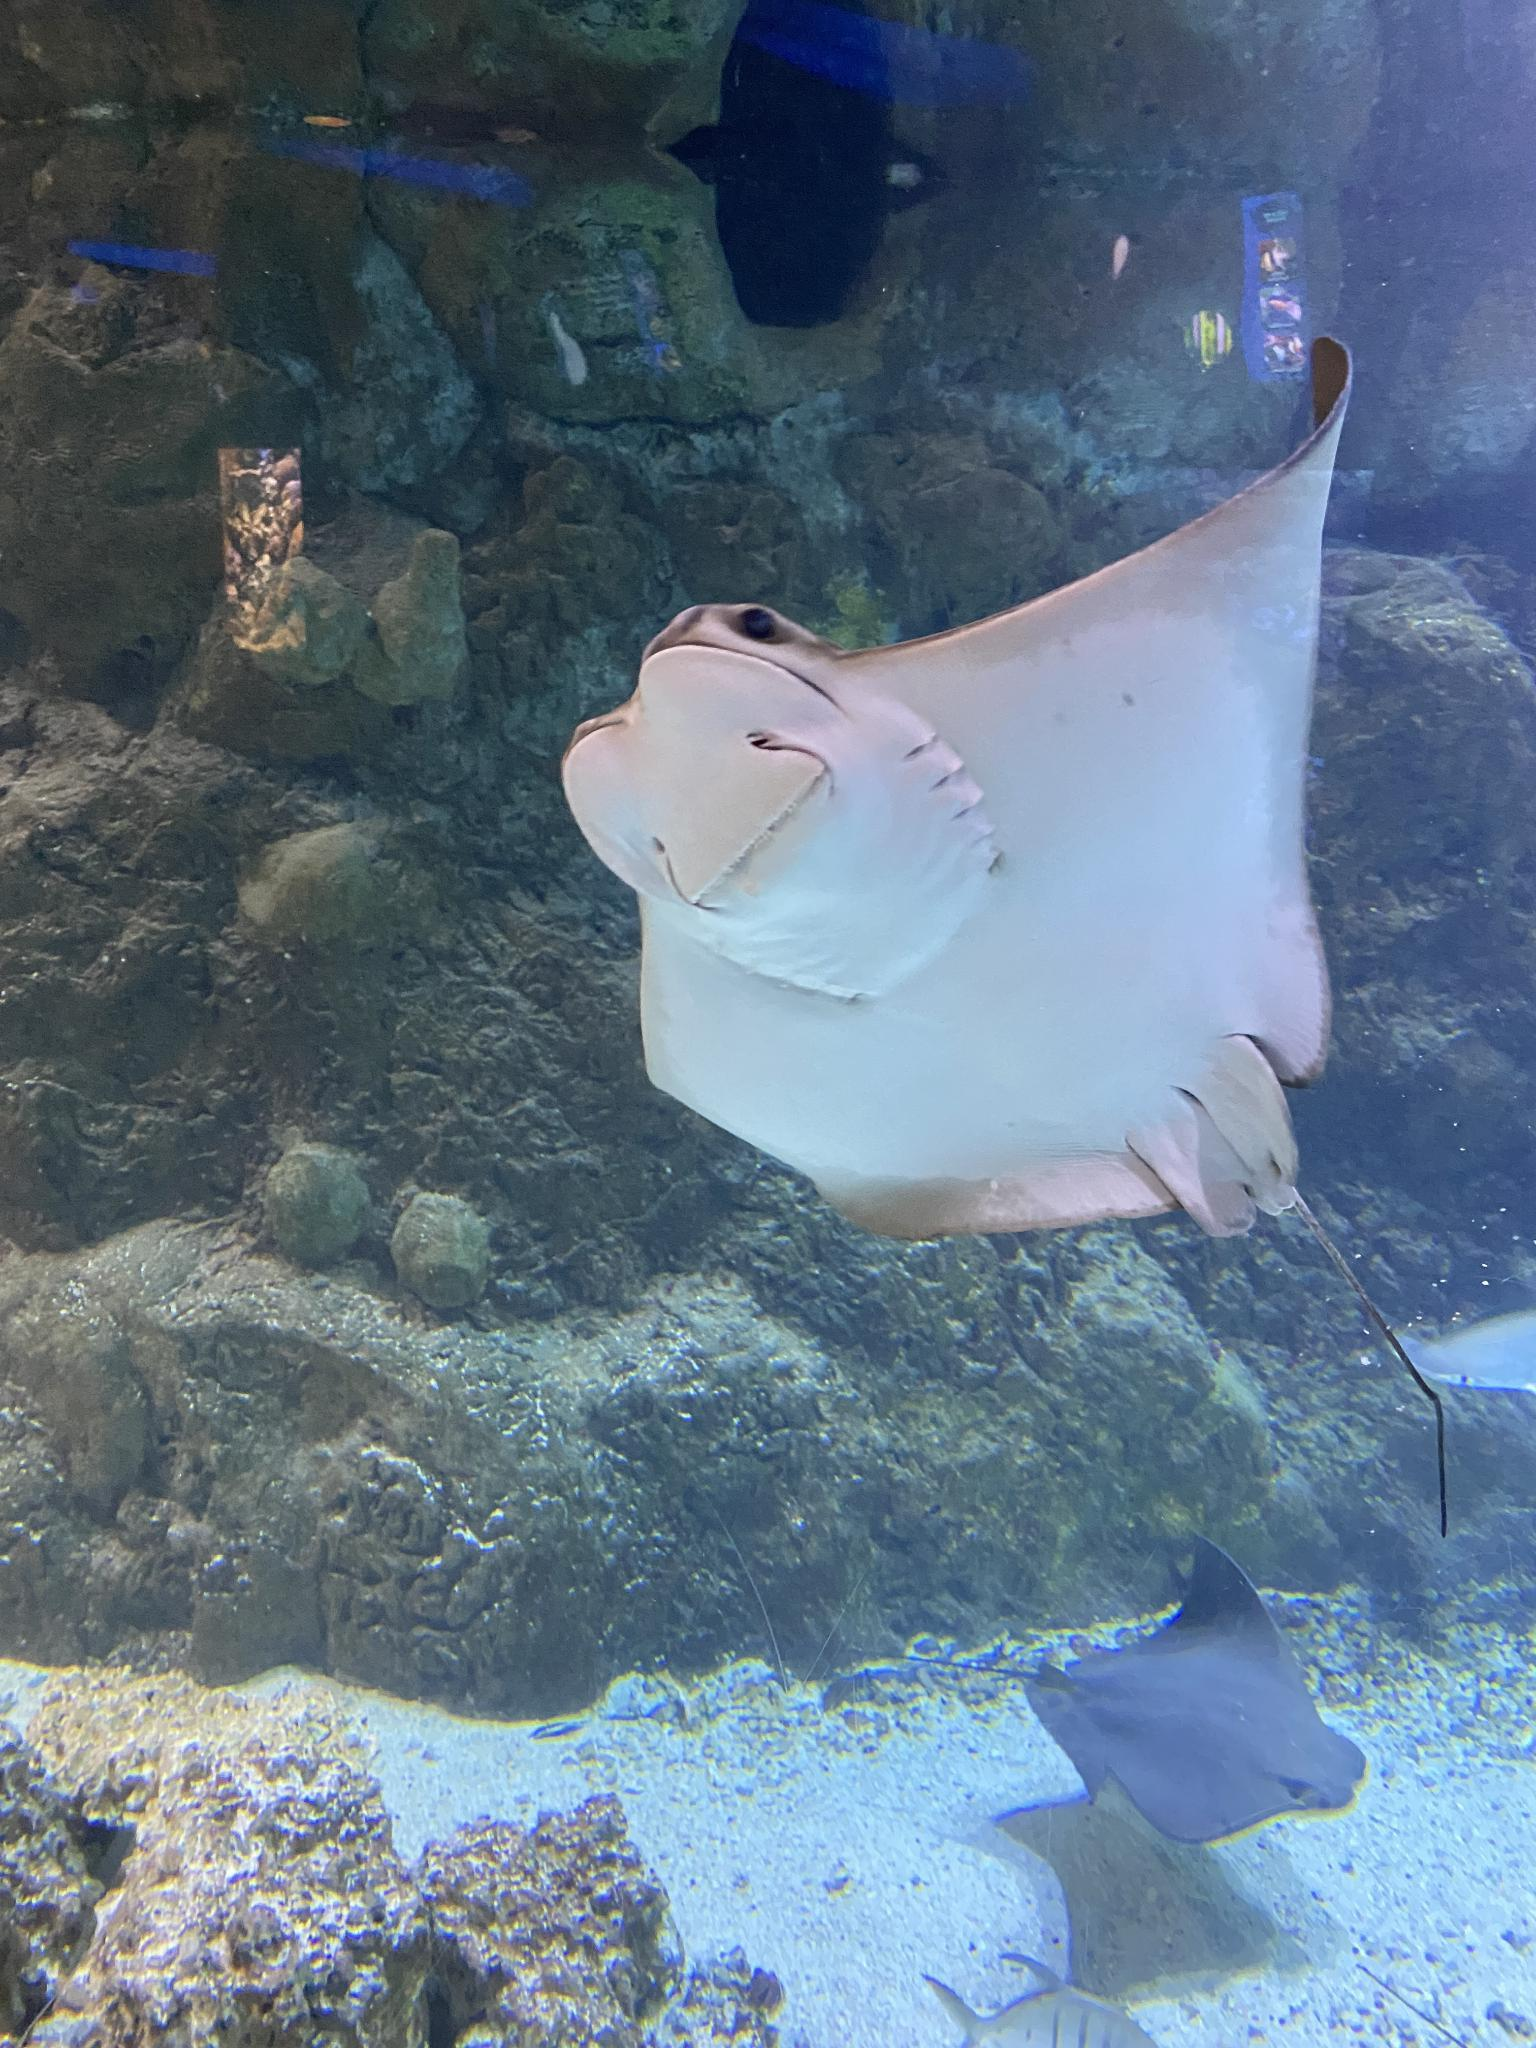fish: (921, 1946, 1165, 2046)
stingray: (561, 337, 1352, 1243), (1018, 1534, 1367, 1850)
